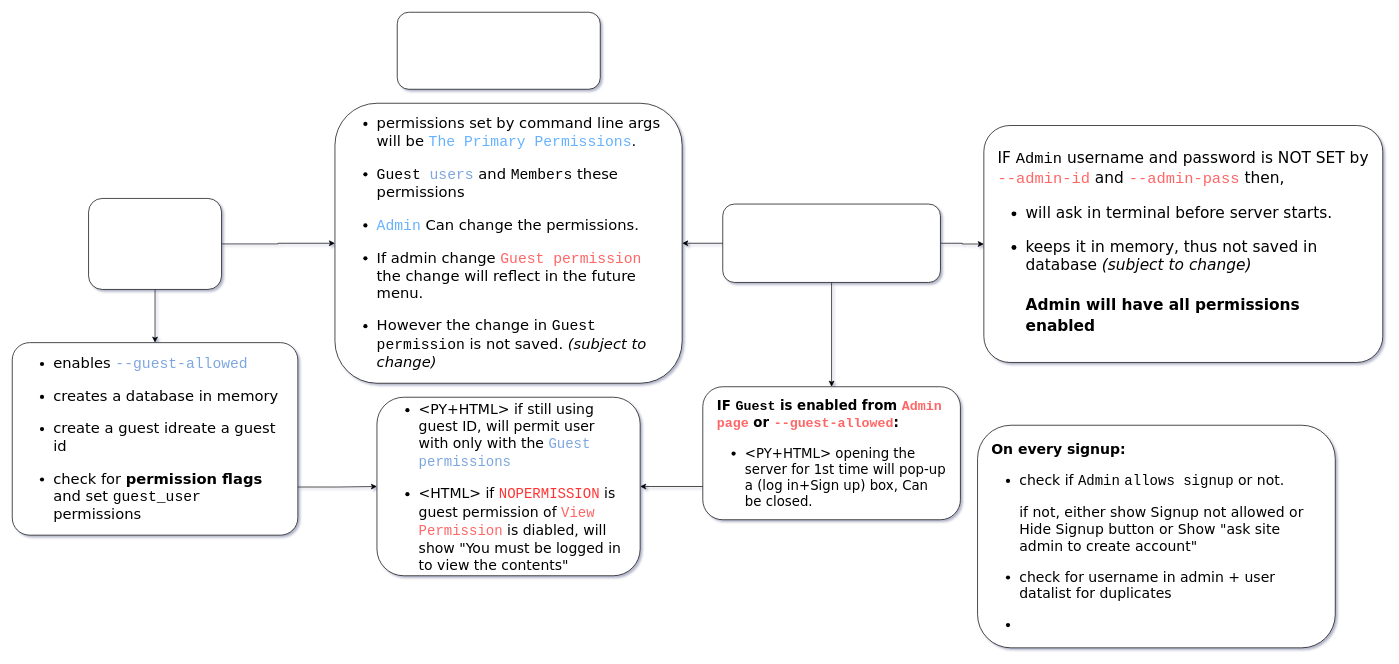
Some shapes in this 1399 by 664 pixel diagram are drawn without their labels. Here are the shapes that lost their labels. From the top down, the box of each, then its label:
(397, 12, 600, 89): Start up pyroBox
(88, 198, 222, 289): Start main.py without name
(722, 203, 940, 282): Start main.py with name
